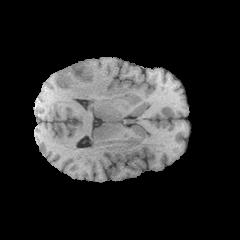glioma: (58, 60, 106, 100)
